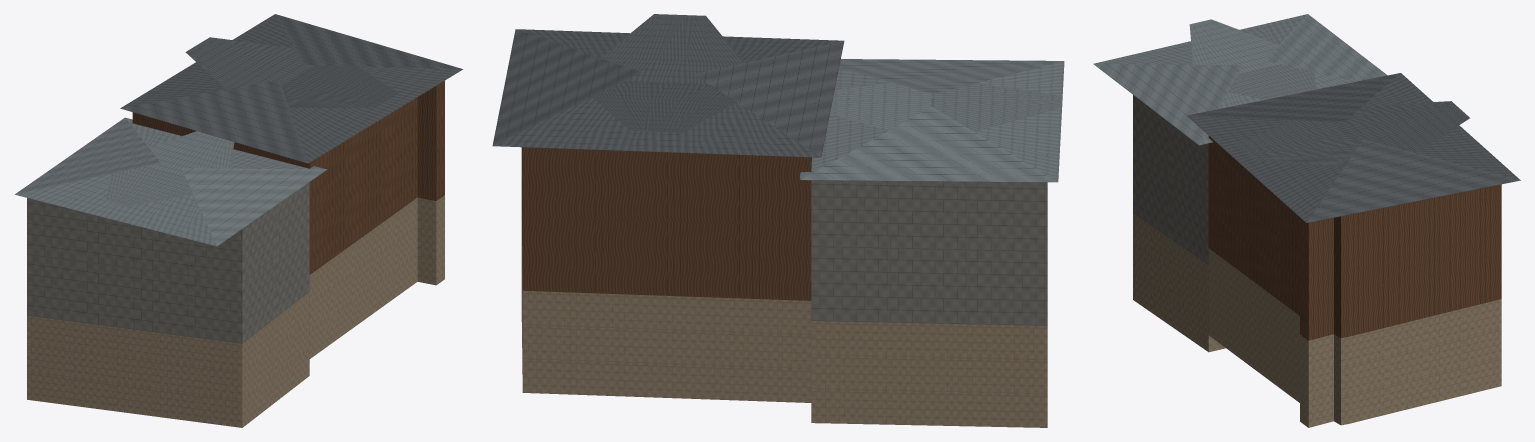
File: bld_c21_45_387.gltf
The picture shows the model from 3 angles, left to right: view 1: azimuth 30°, elevation 25°; view 2: azimuth 150°, elevation 25°; view 3: azimuth 270°, elevation 25°; orthographic projection. The views are drawn at different scales.
Visible parts, largest first — view 1: bld_c21_45_387; view 2: bld_c21_45_387; view 3: bld_c21_45_387.
Boxes of the visible parts, x1,y1,x2,y2 form: bld_c21_45_387: [15, 14, 462, 427]; bld_c21_45_387: [492, 14, 1064, 427]; bld_c21_45_387: [1093, 14, 1520, 427].
Size of the model in its own units: 28.41 by 14.5 by 22.7.
Materials: 5 (5 with a texture image).
